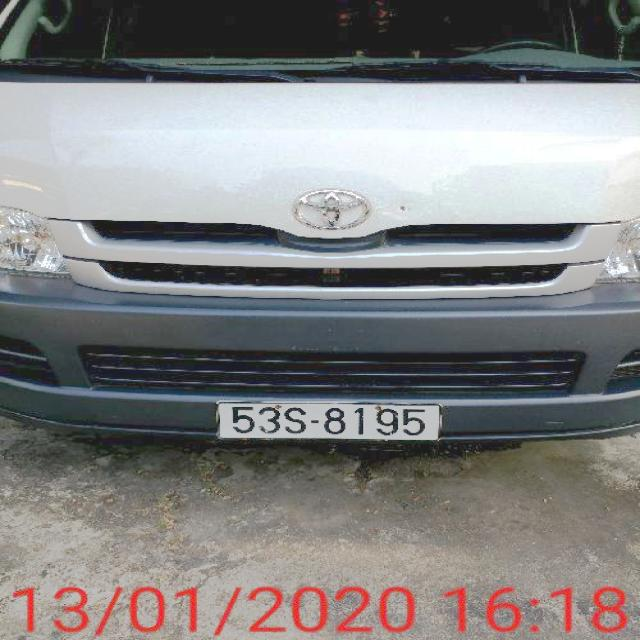license_plate: (221, 403, 442, 440)
